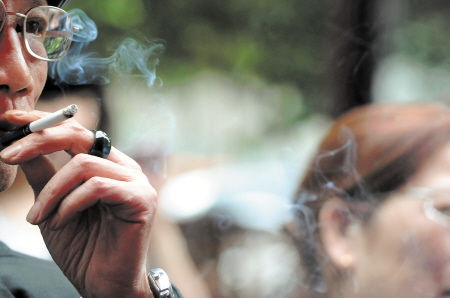yanwu: (55, 7, 161, 85), (324, 124, 370, 193)
